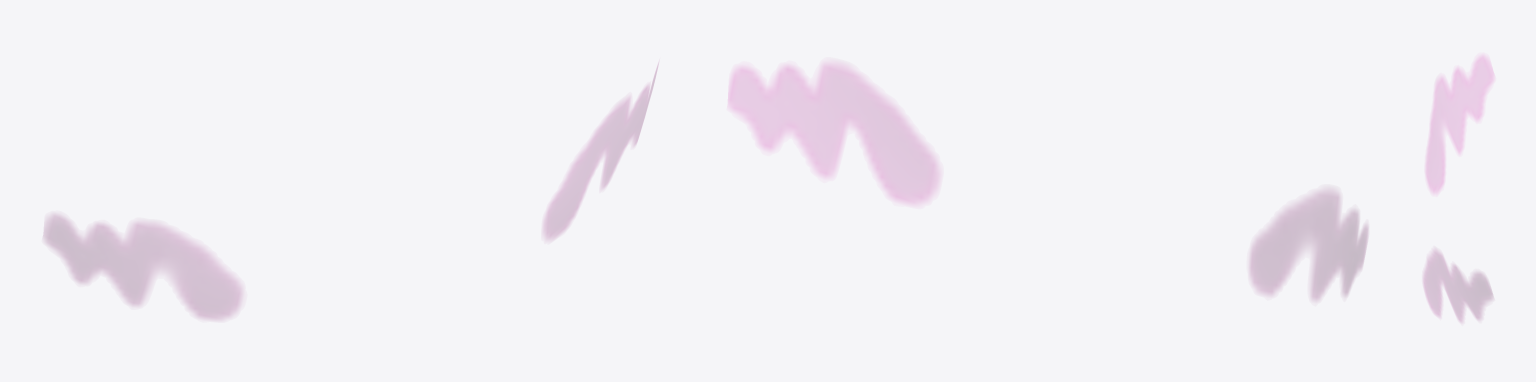
The model's file is Cheeks 9.glb.
3 renders of one model, left to right at view 1: azimuth 30°, elevation 25°; view 2: azimuth 150°, elevation 25°; view 3: azimuth 270°, elevation 25°, orthographic. The views are drawn at different scales.
Visible parts, largest first — view 1: Cheeks_9; view 2: Cheeks_9; view 3: Cheeks_9.
Boxes of the visible parts, x1,y1,x2,y2 form: Cheeks_9: [44, 64, 658, 318]; Cheeks_9: [728, 65, 1367, 299]; Cheeks_9: [1423, 56, 1493, 321].
Size of the model in its own units: 0.00587 by 0.00202 by 0.00121.
1 material, 1 textured.
